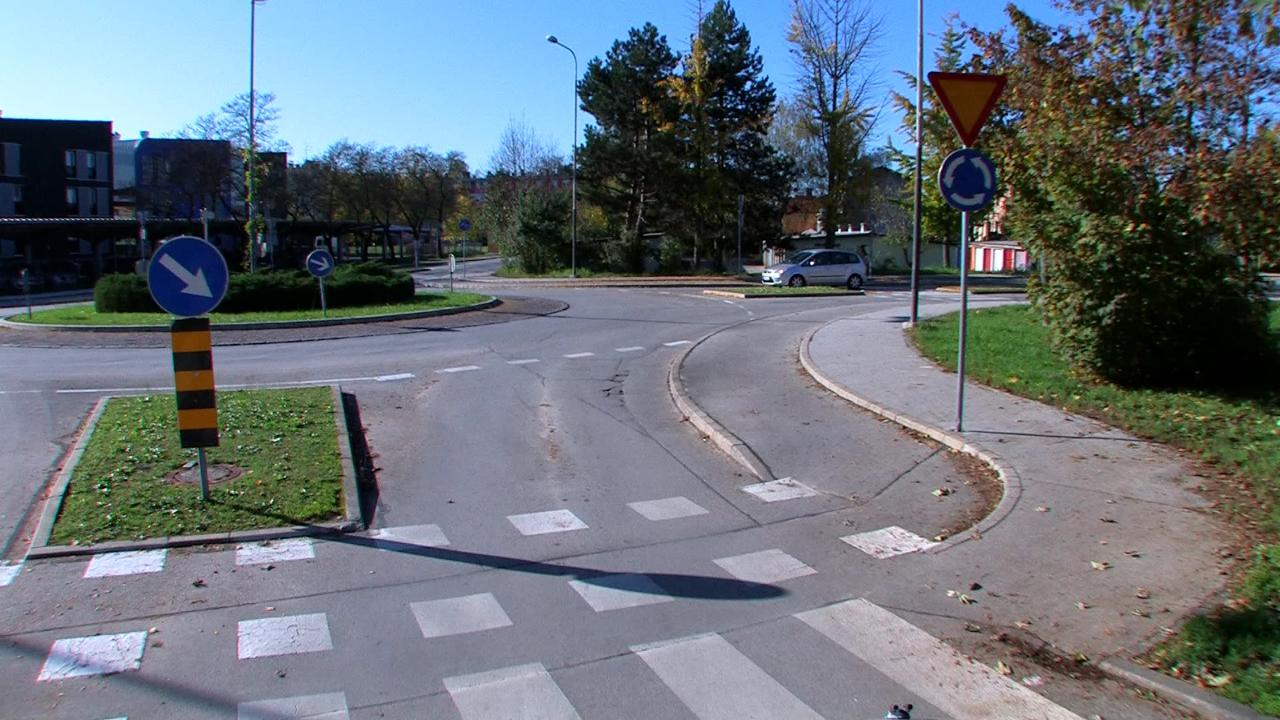Round: (146, 236, 230, 317), (937, 148, 999, 210), (307, 248, 333, 278)
Triangle: (927, 70, 1009, 146)
